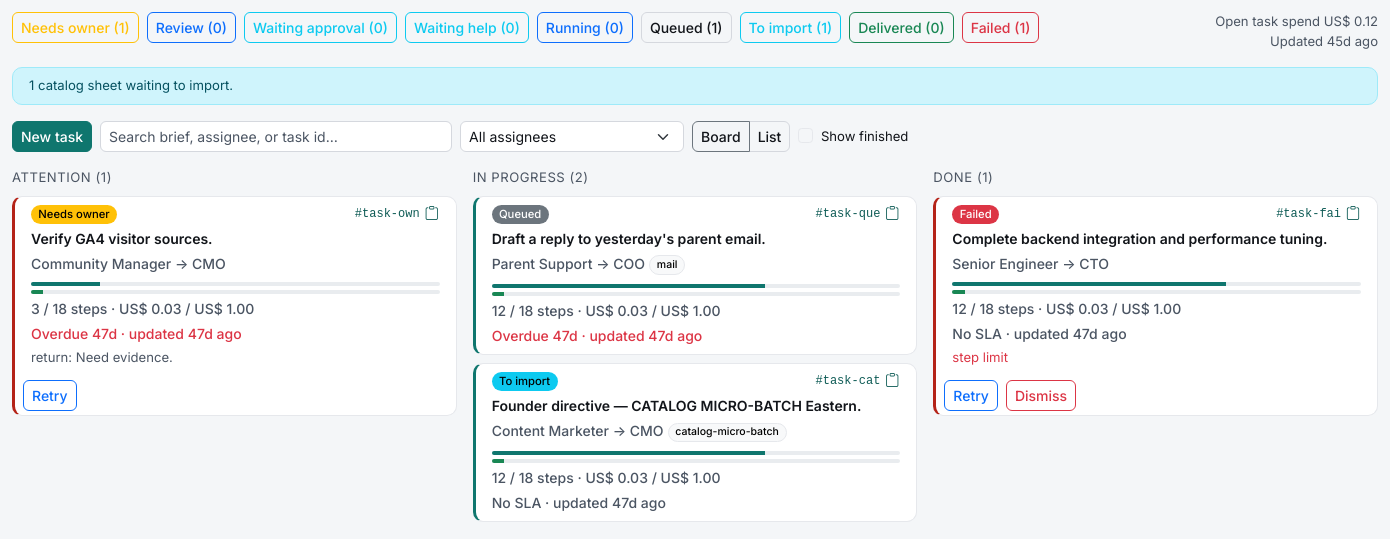
BoardTasksSection › filters cards by task id prefix
Type "task-fai" into the search field named "Search tasks" at (276, 137), box left=100, top=121, right=452, bottom=152
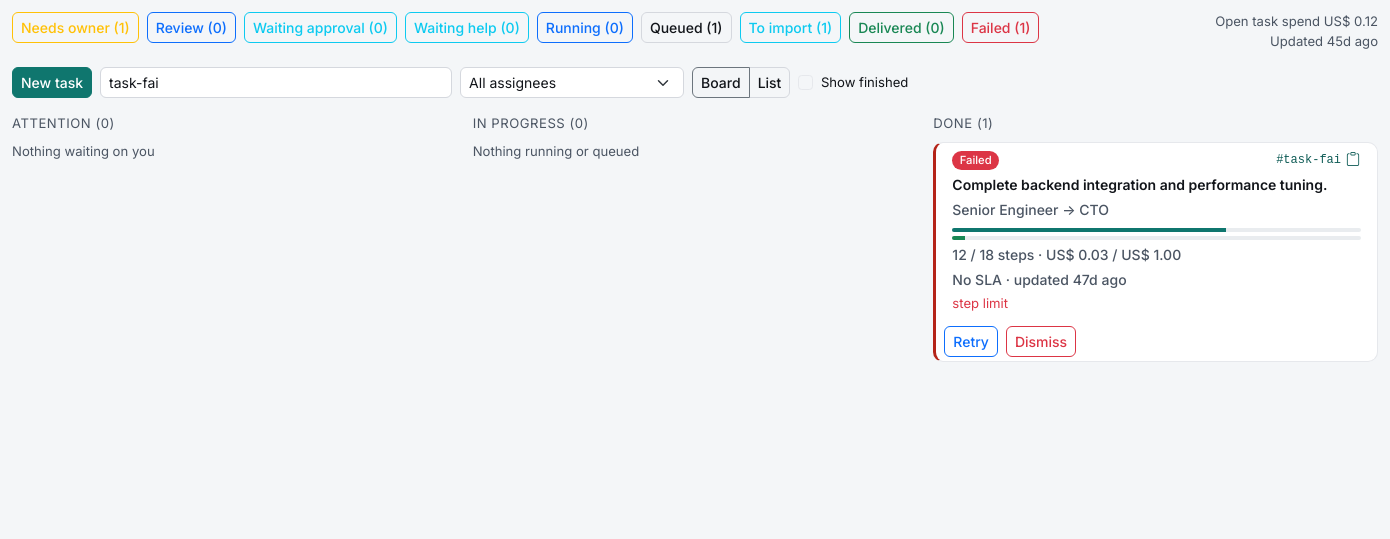
Expected: the text "Complete backend integration and performance tuning." is shown, left=952, top=174, right=1361, bottom=195
Expected: the button "Verify GA4 visitor sources" is gone
